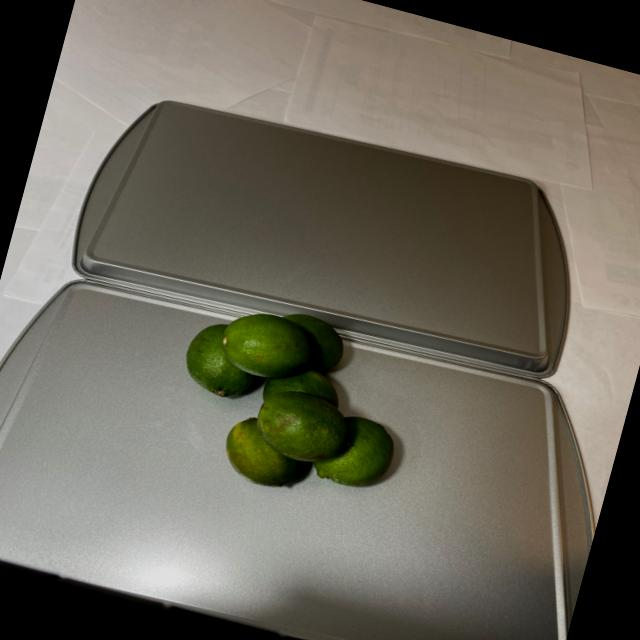lemon: (142, 280, 428, 524)
